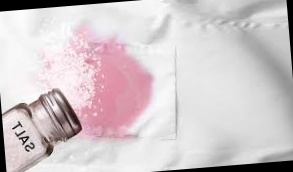wine: (90, 38, 150, 131), (78, 108, 130, 142)
